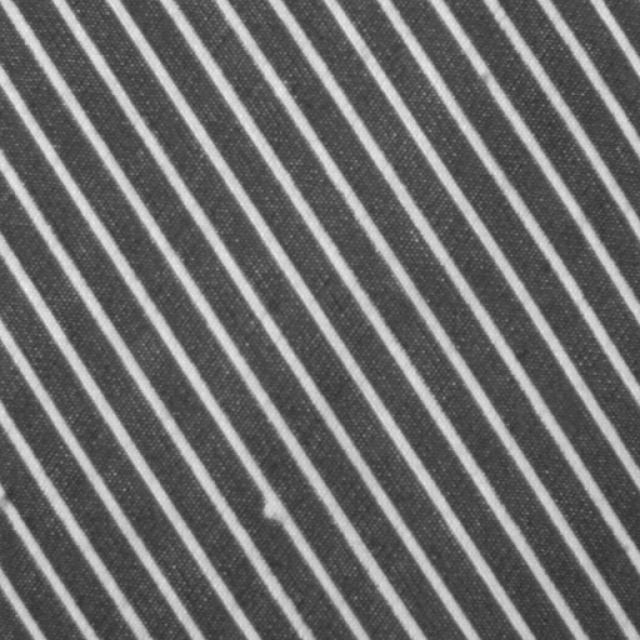Thread-Defect: (262, 502, 284, 524)
